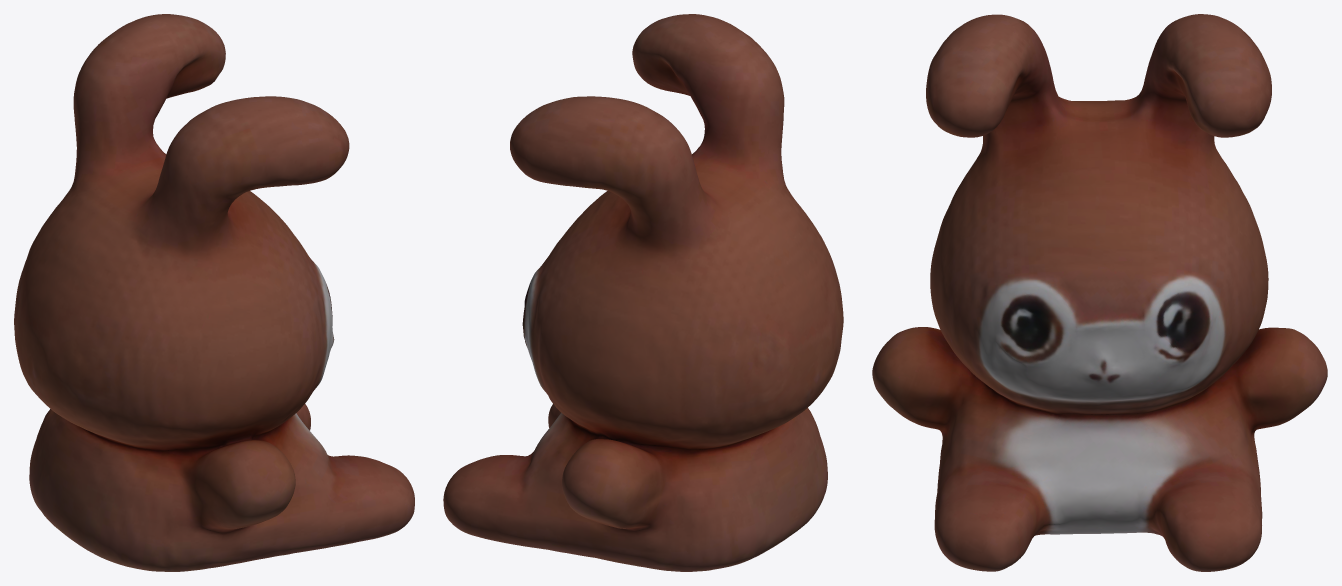
File: 8ca8818d8d5d_make_a_sitting_brow.fbx
3 renders of one model, left to right at view 1: azimuth 30°, elevation 25°; view 2: azimuth 150°, elevation 25°; view 3: azimuth 270°, elevation 25°, orthographic. The views are drawn at different scales.
Parts seen in each view (by area): view 1: high_poly; view 2: high_poly; view 3: high_poly.
Part boxes in pixels (x1,y1,x2,y2): high_poly: (14, 14, 414, 571); high_poly: (443, 14, 843, 571); high_poly: (872, 14, 1327, 571).
Bounding box in the file's own units: 73.74 × 100 × 85.99.
